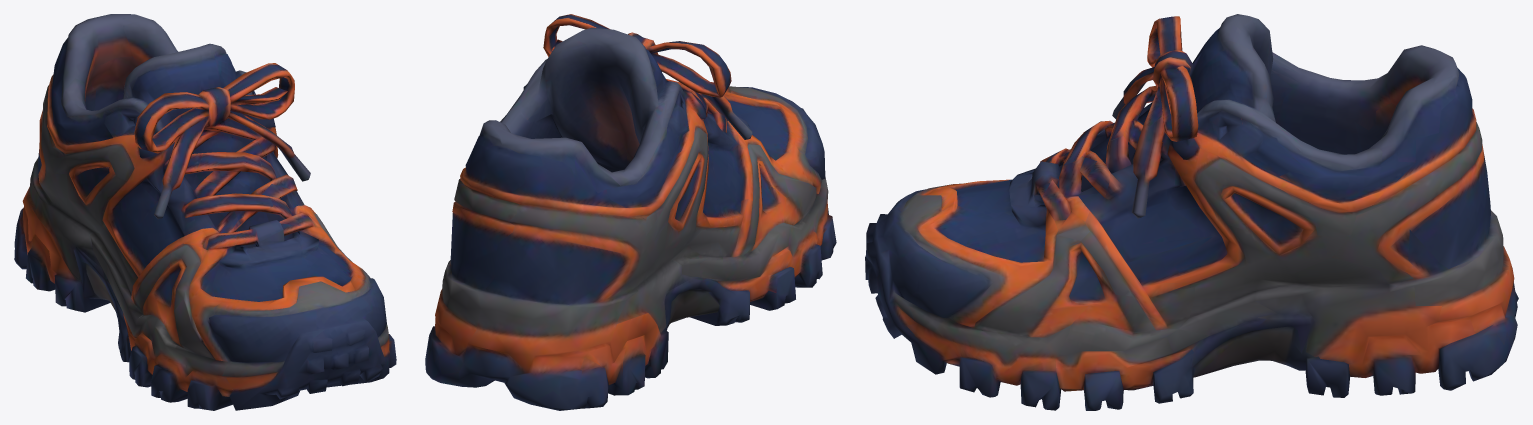
File: shoe-trail.glb
3 views of the same model, side by side, from view 1: azimuth 30°, elevation 25°; view 2: azimuth 150°, elevation 25°; view 3: azimuth 270°, elevation 25° (orthographic). The views are drawn at different scales.
Visible parts, largest first — view 1: shoe-trail; view 2: shoe-trail; view 3: shoe-trail.
Boxes of the visible parts, x1,y1,x2,y2 form: shoe-trail: (14,14,396,410); shoe-trail: (425,14,836,410); shoe-trail: (865,14,1518,410).
Bounding box in the file's own units: 0.4743 × 0.5472 × 1.
1 material, 1 textured.
